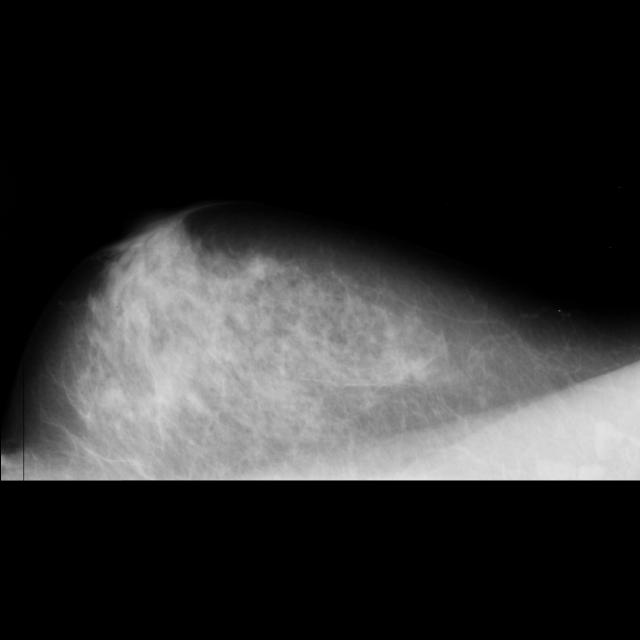SPIC: (398, 41, 640, 349)
